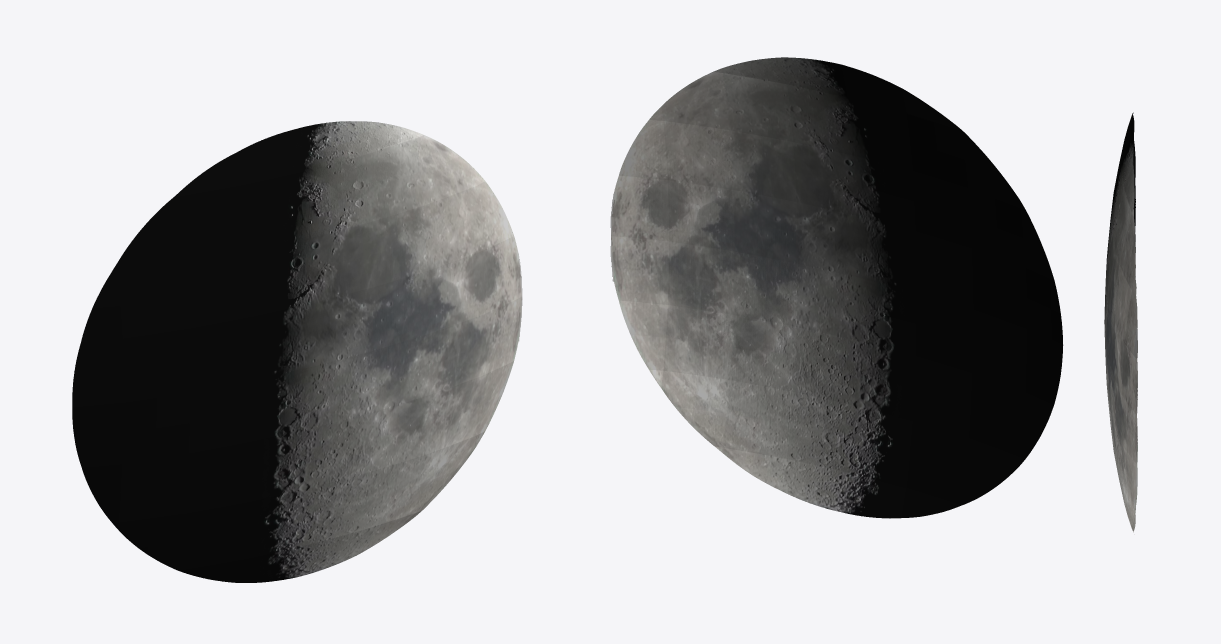
The model's file is moon.fbx.
3 renders of one model, left to right at view 1: azimuth 30°, elevation 25°; view 2: azimuth 150°, elevation 25°; view 3: azimuth 270°, elevation 25°, orthographic. The views are drawn at different scales.
Visible parts, largest first — view 1: Plane; view 2: Plane; view 3: Plane.
Boxes of the visible parts, x1,y1,x2,y2 form: Plane: (72, 121, 522, 582); Plane: (610, 57, 1063, 518); Plane: (1104, 112, 1137, 532).
Size of the model in its own units: 0.4406 by 2 by 2.
Materials: 1 (1 with a texture image).
